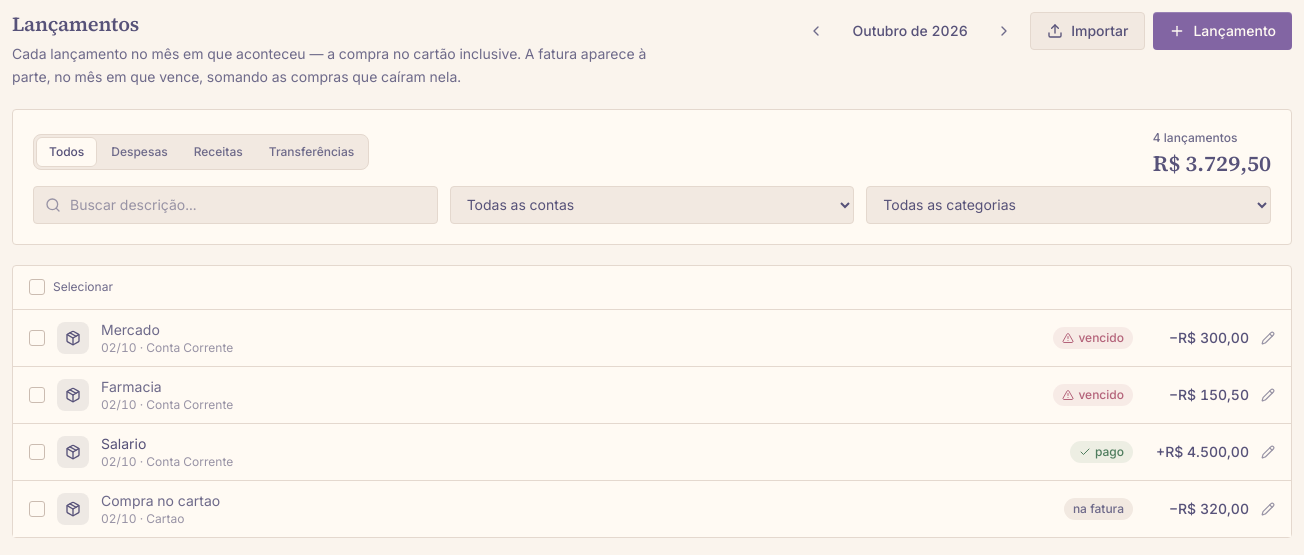
it: seleção de lançamentos › marcar todos mostra o saldo e, depois, despesas e receitas separadas
Click the checkbox named "Selecionar todos" at [37, 287], box [29,279,45,295]
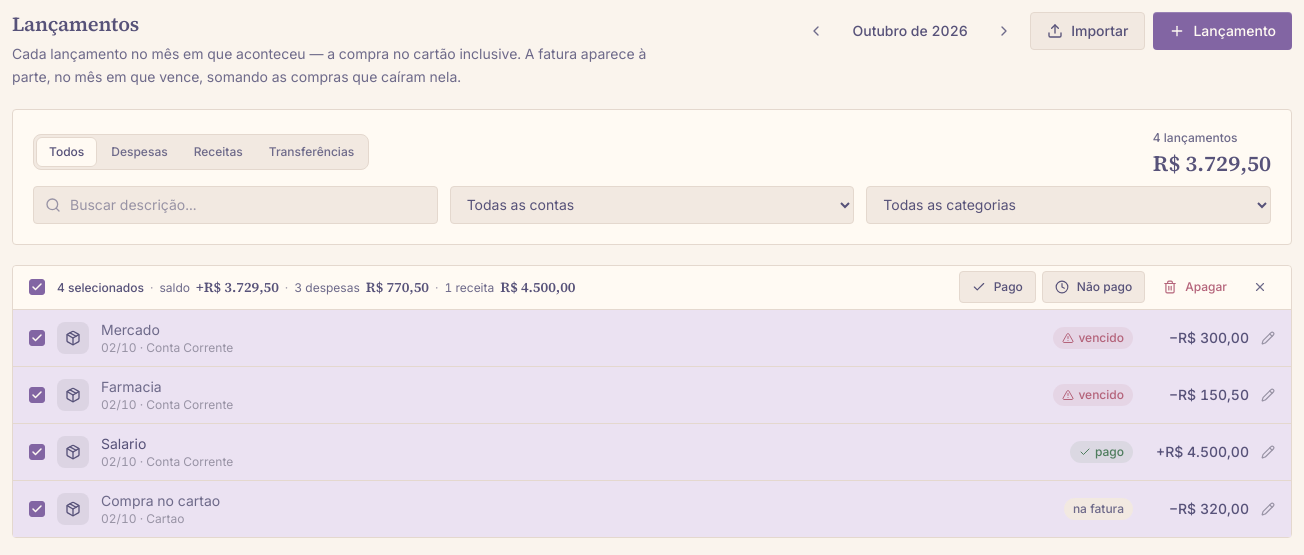
Result: the checkbox named "Selecionar todos" is checked at [29,279,45,295]
Result: the text "4 selecionados" is shown 2 times
